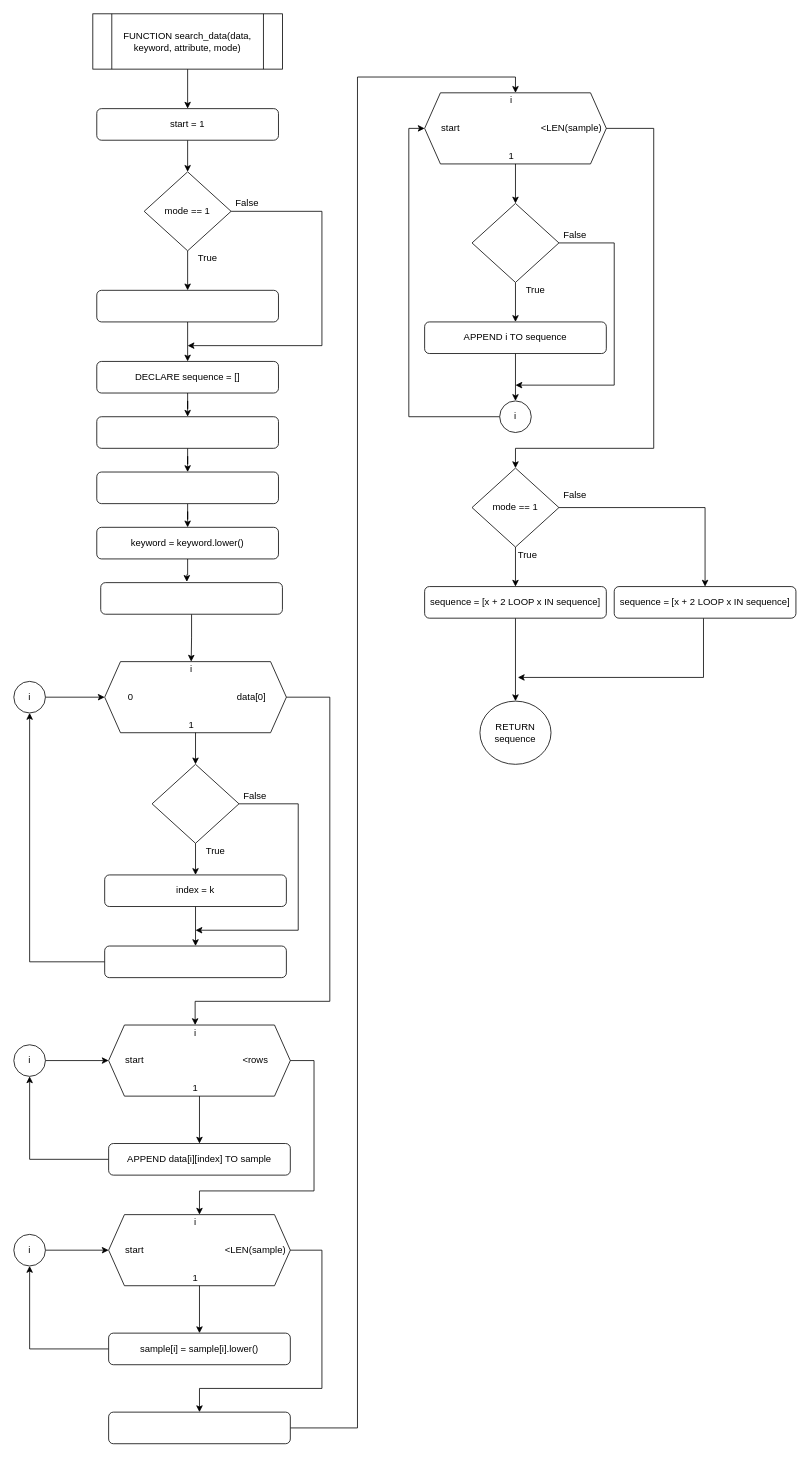
The diagram is 810 pixels wide and 1458 high, and some of its shapes have lost their labels. Here are the shapes that lost their labels. From the top down, the box of each, then its label:
(471, 203, 559, 282): keyword IN sample[i]
(96, 290, 278, 322): start = 2
(96, 416, 278, 448): DECLARE sample = []
(96, 471, 278, 504): rows = LEN(data)
(100, 582, 282, 614): k = 0
(151, 764, 239, 843): attribute == i
(104, 945, 286, 978): k = k + 1
(108, 1411, 290, 1444): i = 0
